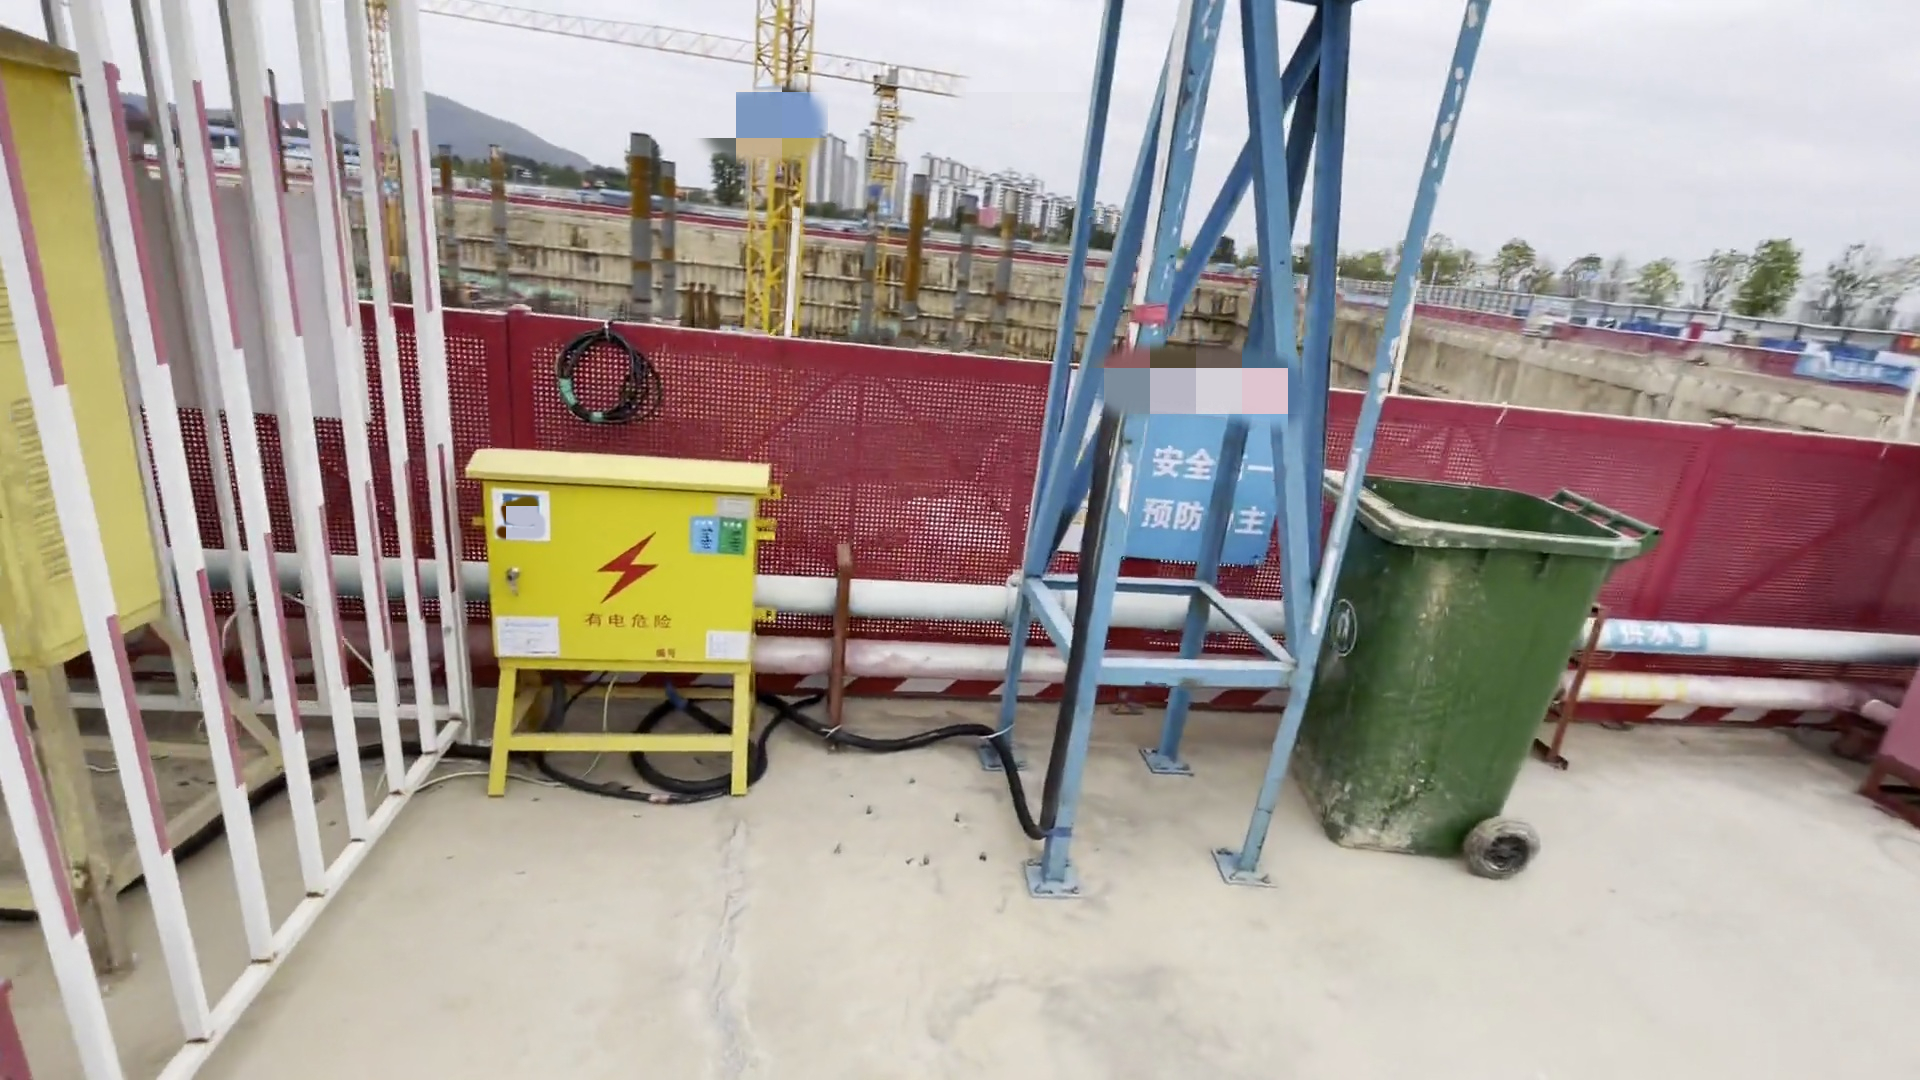ebox: (473, 436, 793, 824)
fence: (452, 305, 1920, 682)
slogan: (1147, 415, 1284, 553)
